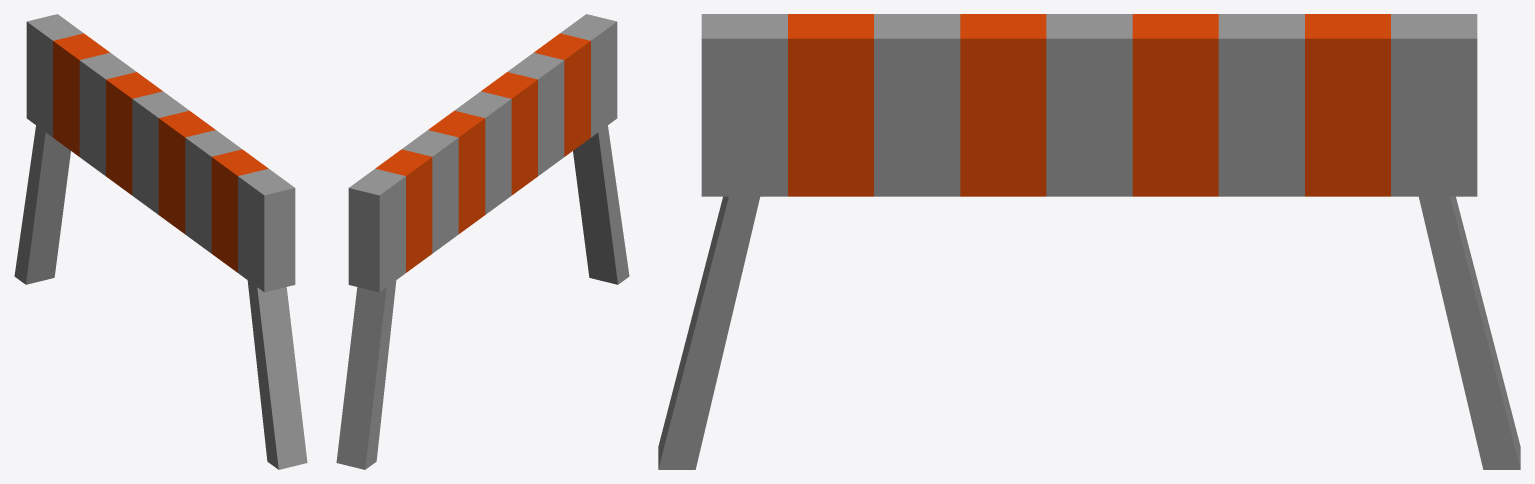
Rendered from RoadBarrierHigh.fbx.
3 views of the same model, side by side, from view 1: azimuth 30°, elevation 25°; view 2: azimuth 150°, elevation 25°; view 3: azimuth 270°, elevation 25° (orthographic). The views are drawn at different scales.
Parts seen in each view (by area): view 1: Cube; view 2: Cube; view 3: Cube.
Boxes of the visible parts, x1,y1,x2,y2 form: Cube: [14, 14, 307, 469]; Cube: [336, 14, 629, 469]; Cube: [658, 14, 1520, 469].
Bounding box in the file's own units: 60 × 492 × 890.
